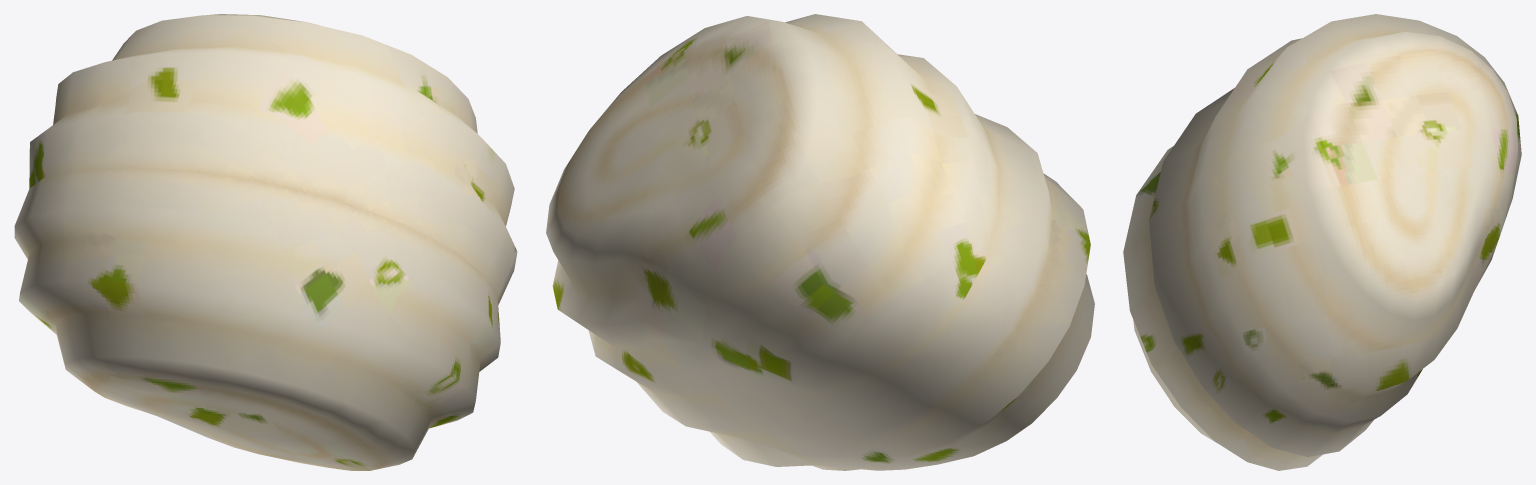
Rendered from ref_bfflowerroll.glb.
3 views of the same model, side by side, from view 1: azimuth 30°, elevation 25°; view 2: azimuth 150°, elevation 25°; view 3: azimuth 270°, elevation 25° (orthographic). The views are drawn at different scales.
Parts seen in each view (by area): view 1: ref_bfflowerroll; view 2: ref_bfflowerroll; view 3: ref_bfflowerroll.
Part boxes in pixels (x1,y1,x2,y2): ref_bfflowerroll: (14,14,517,470); ref_bfflowerroll: (546,14,1094,470); ref_bfflowerroll: (1123,14,1521,470).
Bounding box in the file's own units: 1 × 0.8806 × 0.8179.
Materials: 1 (1 with a texture image).
